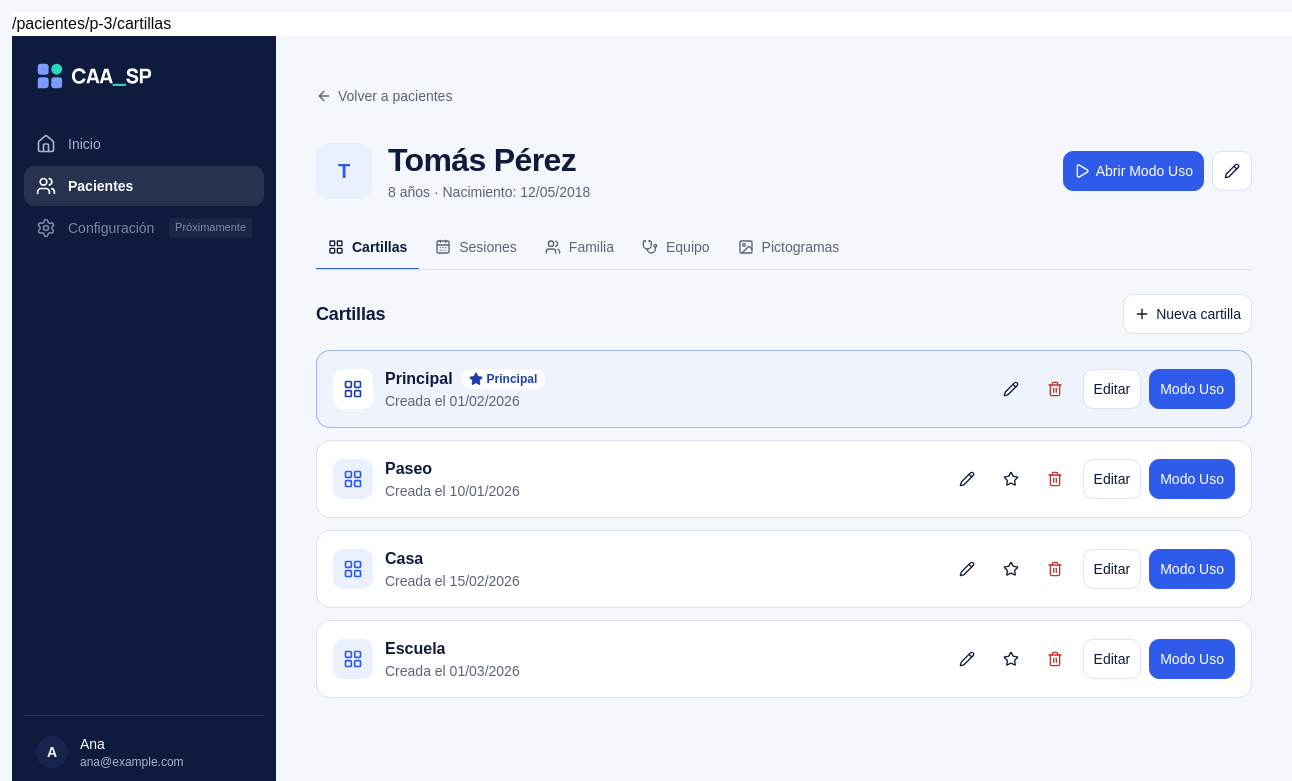
BoardsPage cartilla CRUD › rename › renames an own cartilla: PUT with only nombre, Enter submits, list and notice update
The width and height of the screenshot is (1292, 781).
Expected: the heading "Tomás Pérez" is shown, [388, 140, 590, 180]
Click the button named "Renombrar Casa" at (967, 569), box [947, 549, 987, 589]
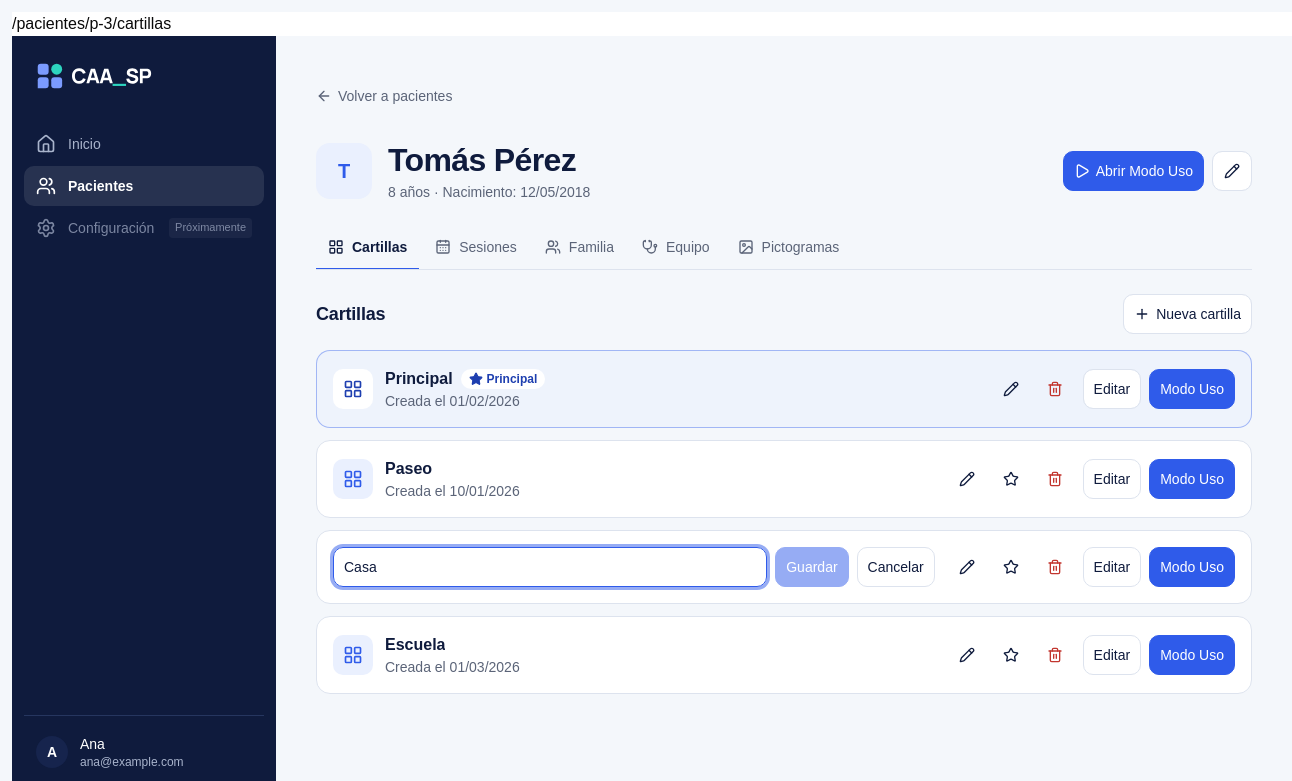
Expected: the field named "Nombre de la cartilla" holds "Casa"
Replace the text in the field named "Nombre de la cartilla" with " Hogar " at (550, 567), box [333, 547, 767, 587]
Then press Enter
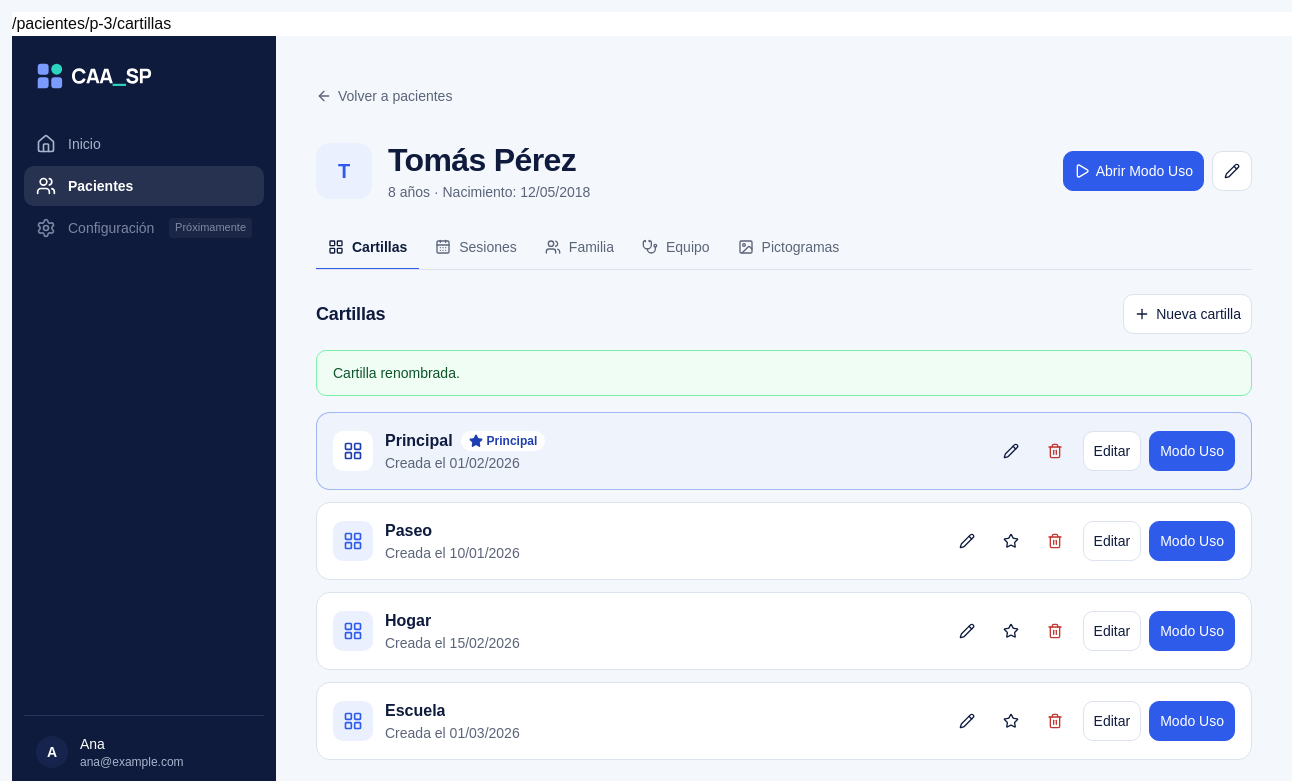
Expected: the text "Casa" is not shown
Expected: the message reads "Cartilla renombrada.", [333, 365, 460, 381]
Expected: the text "Hogar" is shown, [385, 609, 431, 633]
